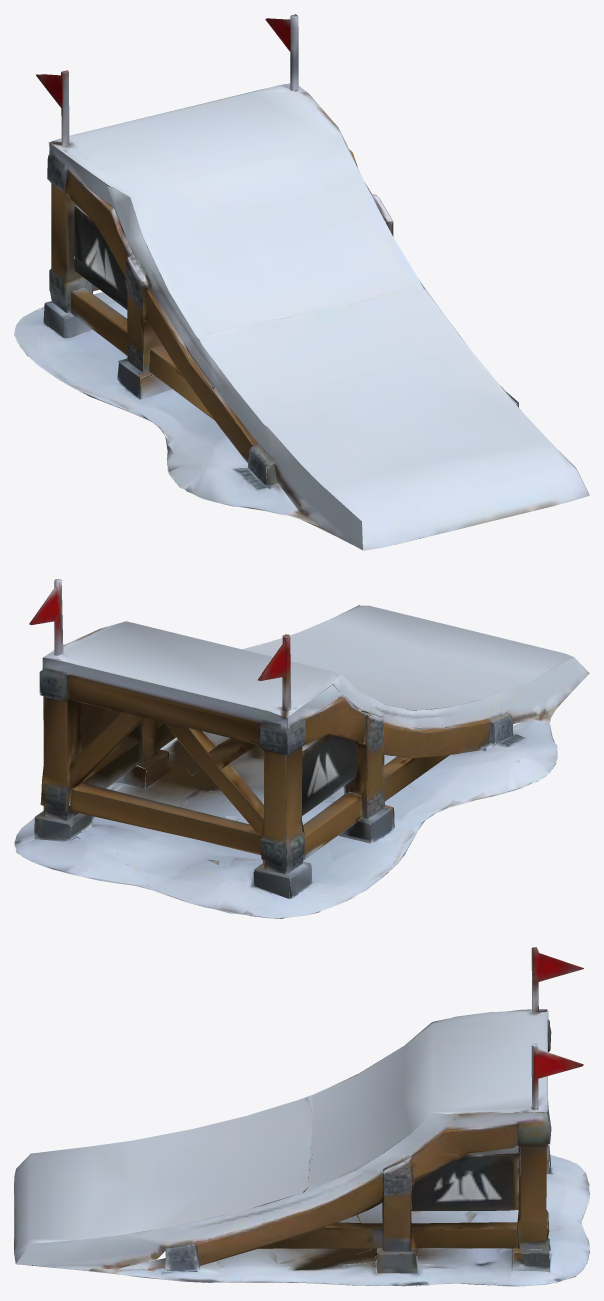
Rendered from ramp_gen_a.glb.
3 views of the same model, one above another, from view 1: azimuth 30°, elevation 25°; view 2: azimuth 150°, elevation 25°; view 3: azimuth 270°, elevation 25° (orthographic). The views are drawn at different scales.
Visible parts, largest first — view 1: ramp_gen; view 2: ramp_gen; view 3: ramp_gen.
Boxes of the visible parts, <box> form: ramp_gen: <box>14,14,589,550</box>; ramp_gen: <box>14,579,589,918</box>; ramp_gen: <box>14,947,589,1286</box>.
Size of the model in its own units: 10.91 by 8.05 by 18.43.
Materials: 1 (1 with a texture image).
